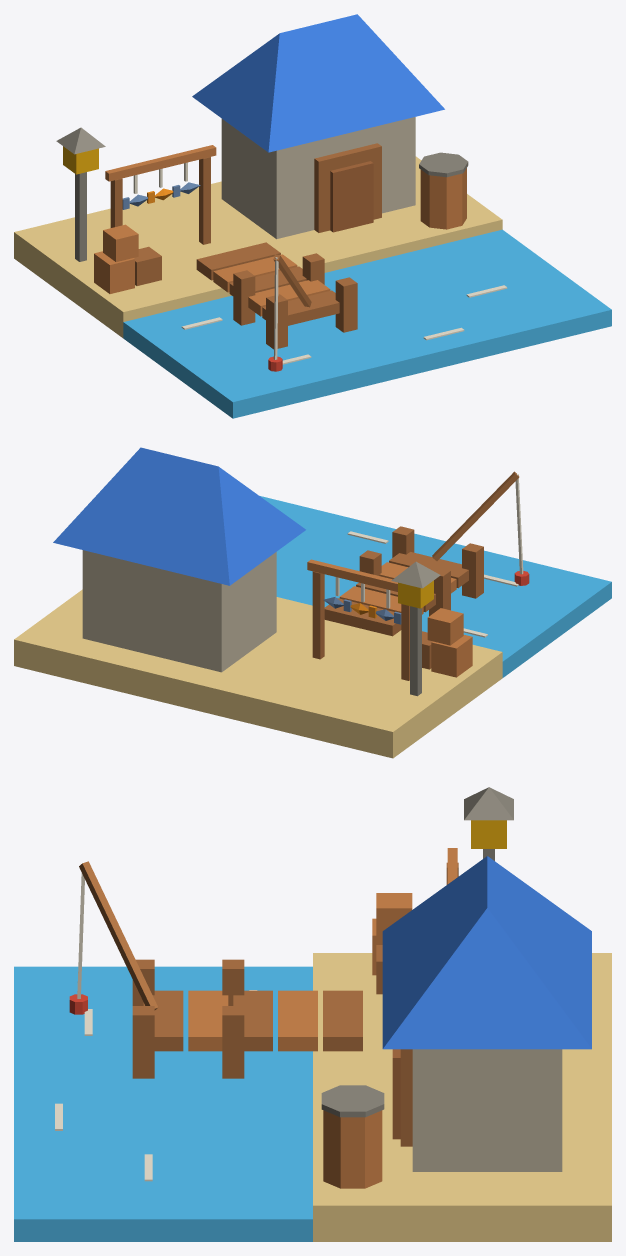
Rendered from fishery_t1_v2.glb.
The picture shows the model from 3 angles, top to bottom: view 1: azimuth 30°, elevation 25°; view 2: azimuth 150°, elevation 25°; view 3: azimuth 270°, elevation 25°; orthographic projection. The views are drawn at different scales.
Parts seen in each view (by area): view 1: fishery_t1_v2; view 2: fishery_t1_v2; view 3: fishery_t1_v2.
Boxes of the visible parts, box(x1,y1,x2,y2) form: fishery_t1_v2: box(14, 14, 611, 418); fishery_t1_v2: box(14, 447, 611, 758); fishery_t1_v2: box(14, 787, 611, 1241).
Size of the model in its own units: 0.6 by 0.31 by 0.6.
1 material, 1 textured.
